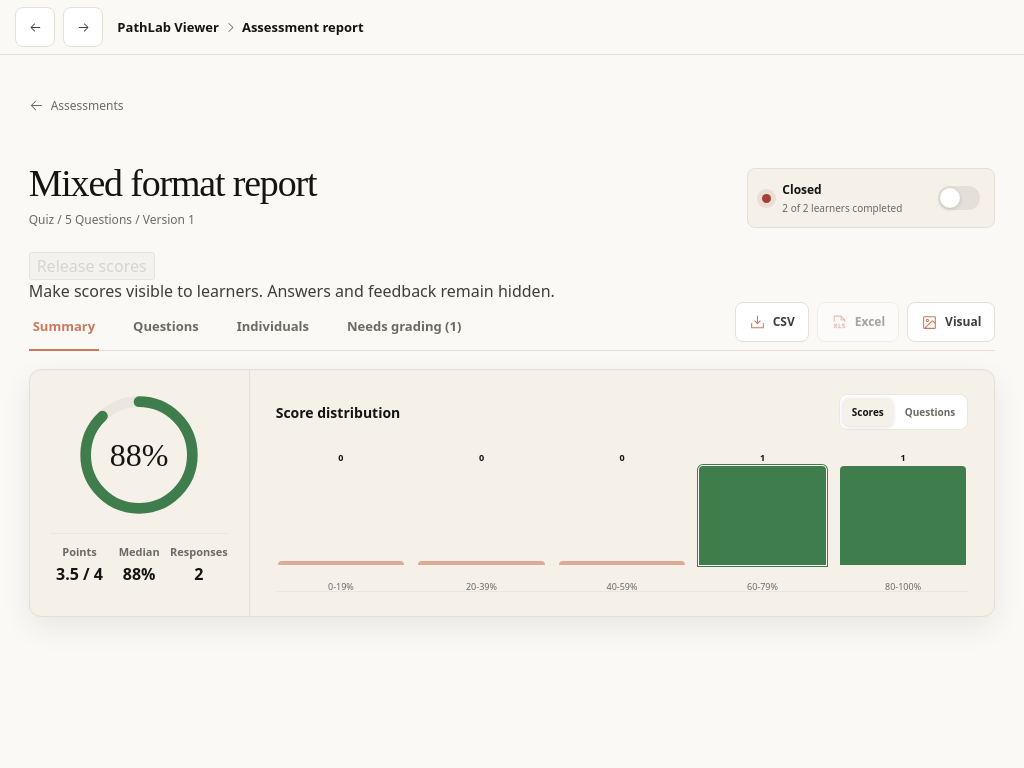
Test case: renders a visual summary for every supported assessment item type
The width and height of the screenshot is (1024, 768).
Check: the heading "Mixed format report" is shown, box left=29, top=162, right=316, bottom=204
Click the button "Questions" in the row of "CSV". click: (166, 326)
box: left=129, top=302, right=203, bottom=350
(page scrolled)
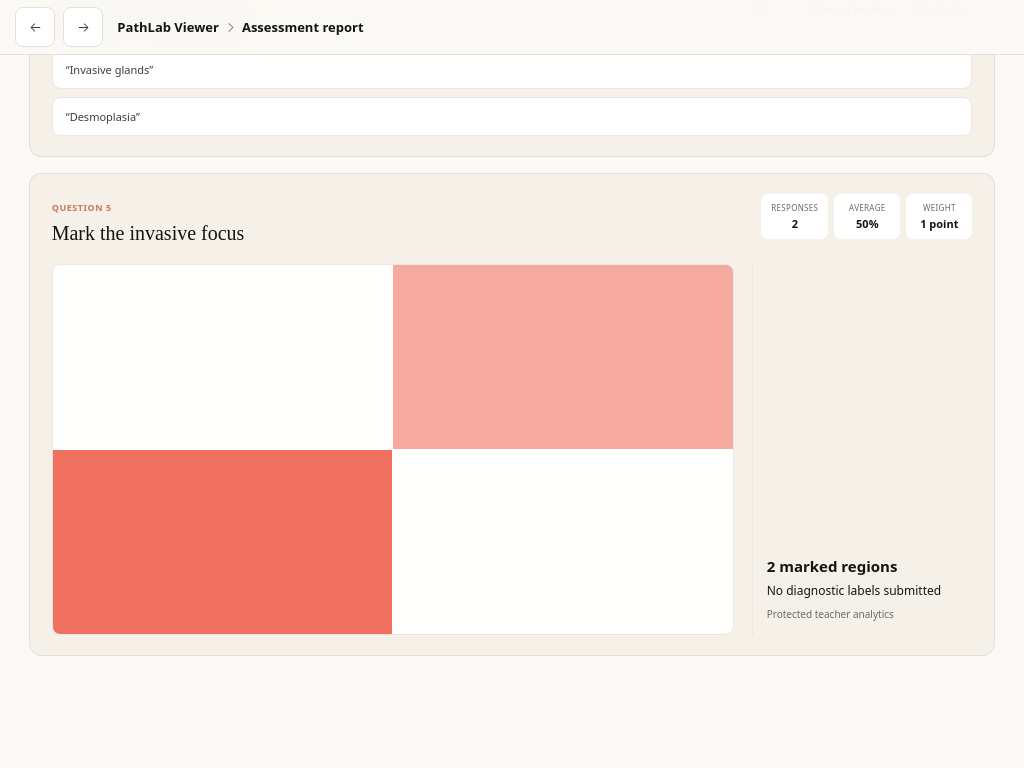
Check: the list named "Text responses for question 4" is shown, box left=52, top=50, right=972, bottom=136
Check: the picture named "Spatial response heatmap for question 5" is shown, box left=52, top=264, right=972, bottom=635
